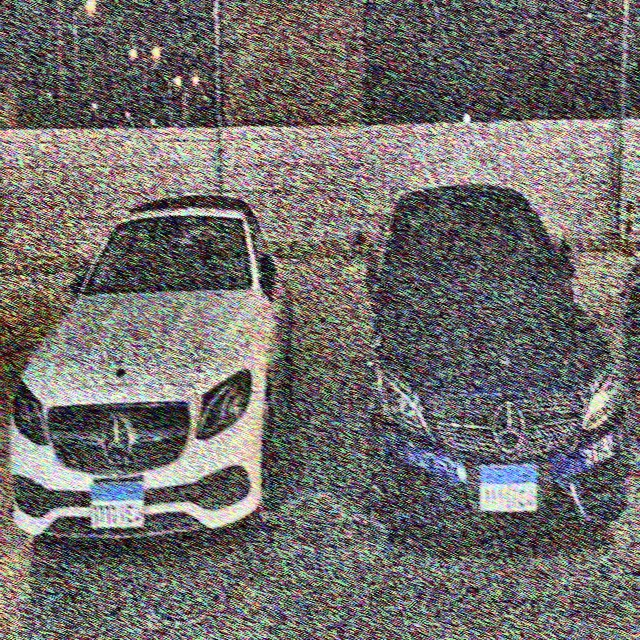License Plate: (479, 460, 539, 517), (89, 478, 147, 534)
